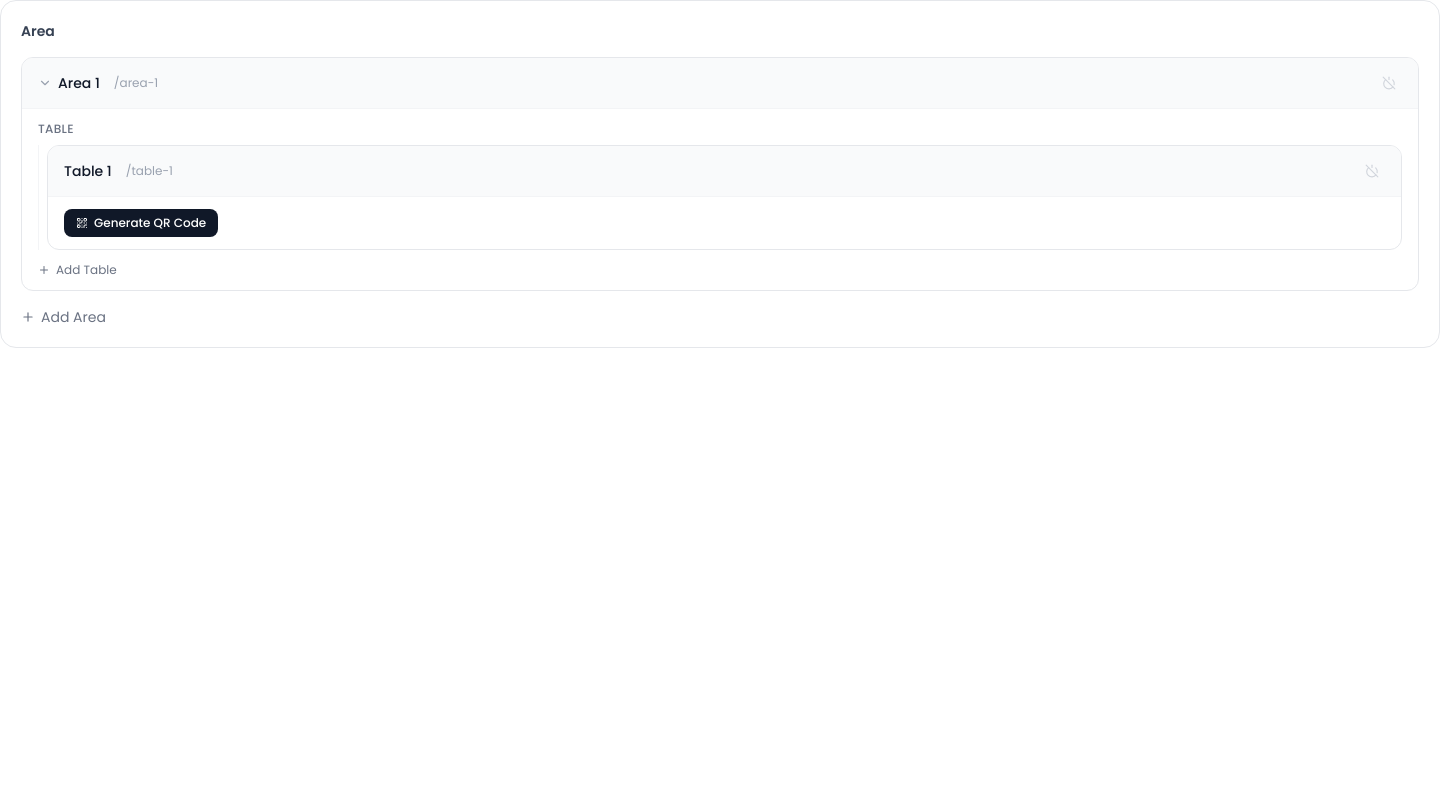
Scenario: ManagerAdminPanel — Structure tab collapse/expand › clicking a non-leaf header collapses it, hiding children and the Add {layer} button
Click the element showing "Area 1 /area-1" at (720,84), box x1=22 y1=58 x2=1418 y2=109
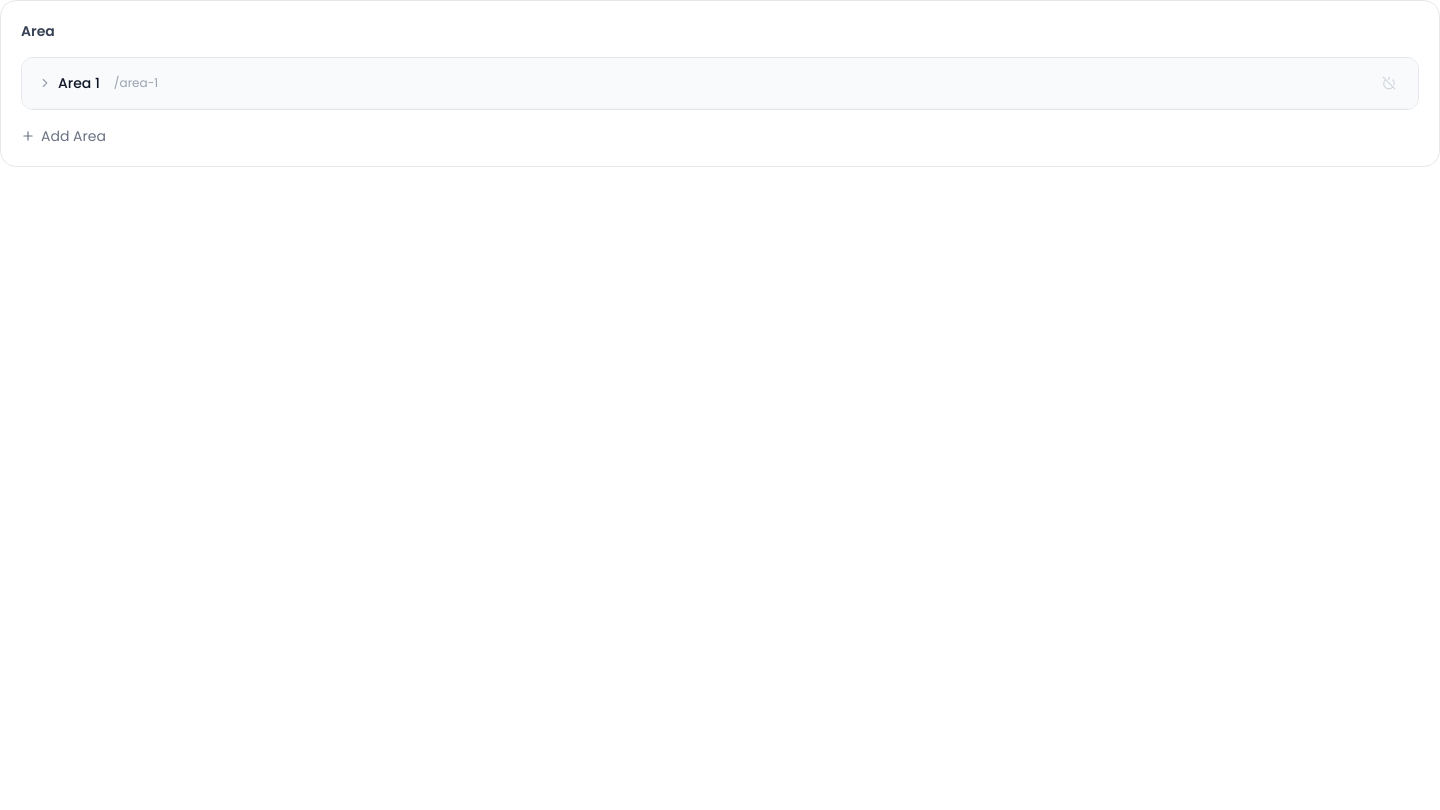
Check: the text "Table 1" is gone
Check: the button "Add Table" is gone
